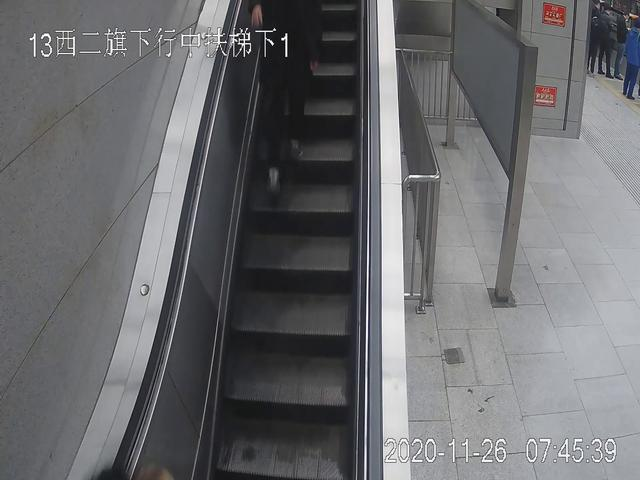person: (252, 1, 322, 207), (622, 21, 640, 98), (595, 6, 613, 77)
